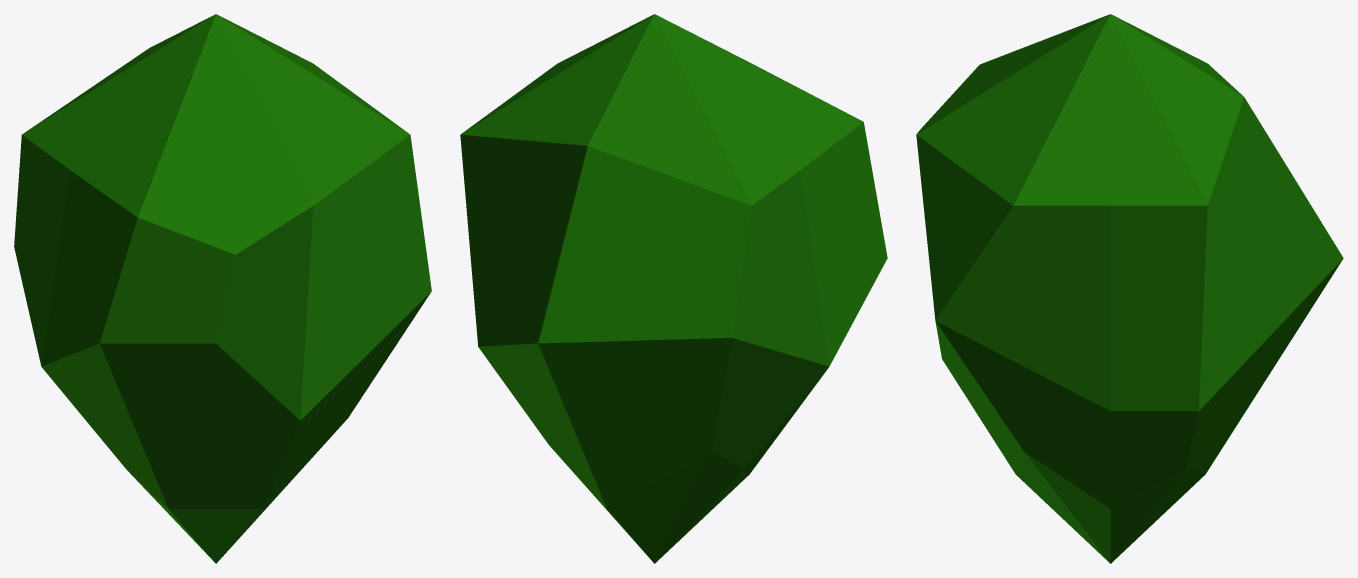
Rendered from TerraCrystal.fbx.
The picture shows the model from 3 angles, left to right: view 1: azimuth 30°, elevation 25°; view 2: azimuth 150°, elevation 25°; view 3: azimuth 270°, elevation 25°; orthographic projection.
Parts seen in each view (by area): view 1: TerraCrystal; view 2: TerraCrystal; view 3: TerraCrystal.
Part boxes in pixels (x1,y1,x2,y2): TerraCrystal: (14,14,431,563); TerraCrystal: (460,14,887,563); TerraCrystal: (916,14,1343,563).
Size of the model in its own units: 102 by 168 by 118.
